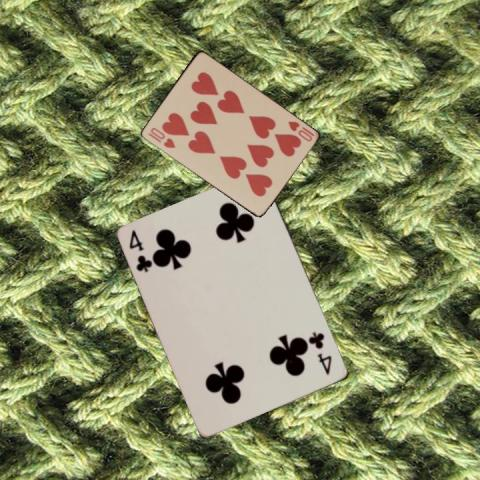10h: (144, 125, 176, 150), (285, 118, 315, 143)
4c: (306, 328, 334, 376), (127, 227, 154, 274)
